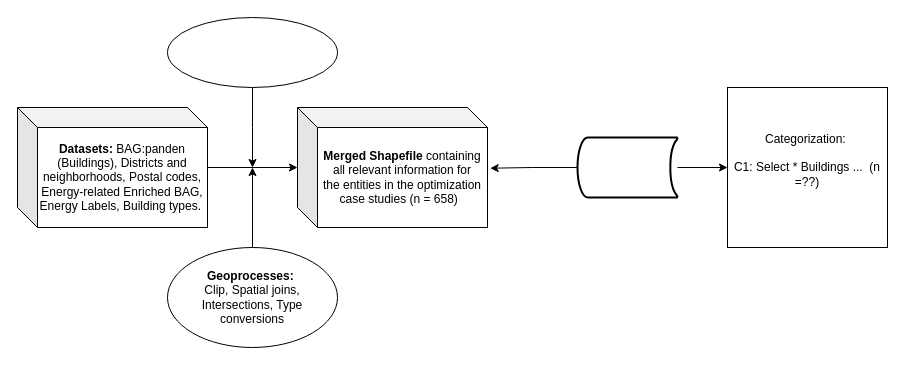
This 905x365 diagram has some shape labels left out. Here are the shapes that lost their labels. From the top down, the centre of each, then its label:
(252,52): Data Selection: Removing extraneous entities
(627,167): SQL queries
